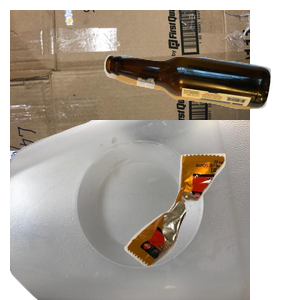cardboard: (10, 10, 250, 190)
glass: (101, 52, 300, 154)
plastic: (10, 120, 250, 300)
trash: (122, 151, 300, 300)
